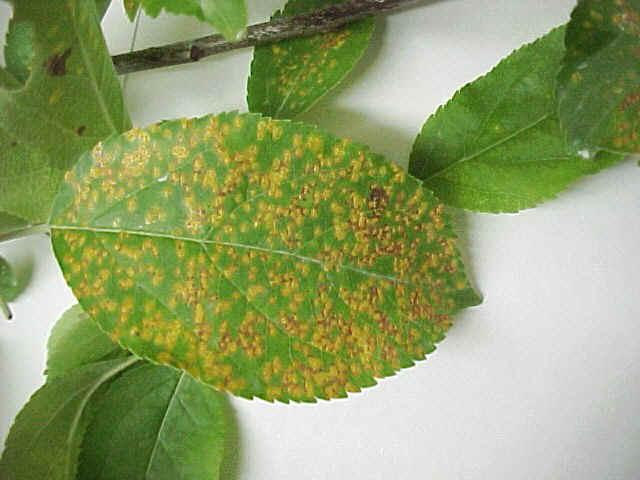Apple rust leaf: (39, 116, 489, 404)
